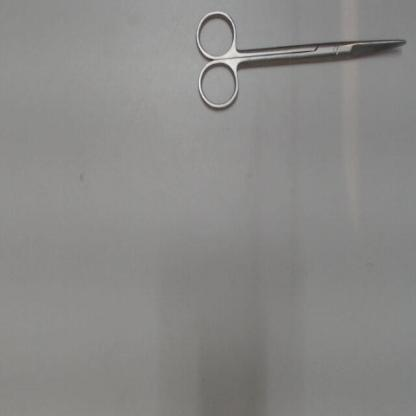Curved Mayo Scissors: (192, 5, 409, 115)
